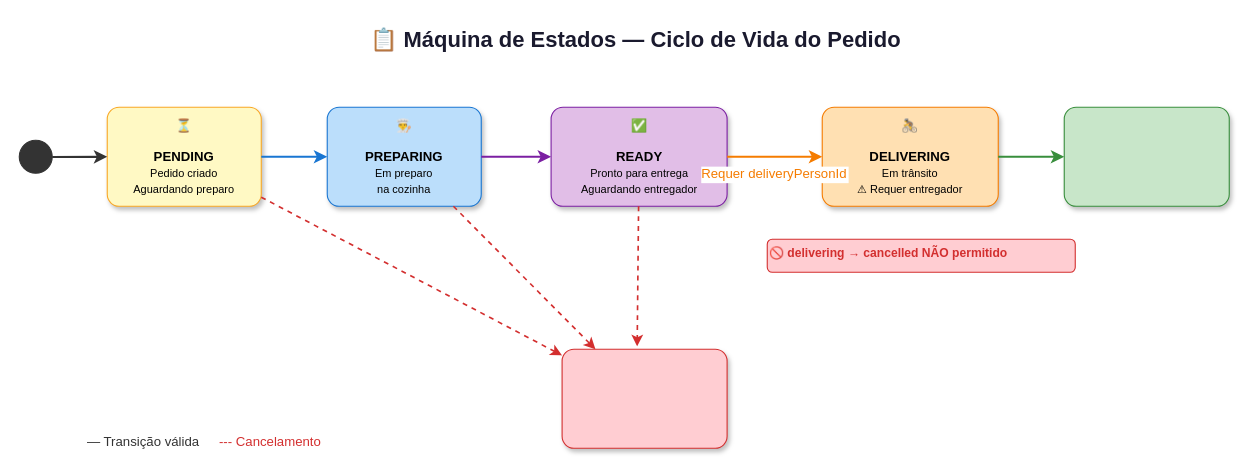
Some shapes in this 1255 by 475 pixel diagram are drawn without their labels. Here are the shapes that lost their labels. From the top down, the centre of each, then its label:
the point at 1147,158: 🎉 DELIVERED Entregue com sucesso Estado final ✓
the point at 645,400: ❌ CANCELLED Pedido cancelado Estado final ✓
